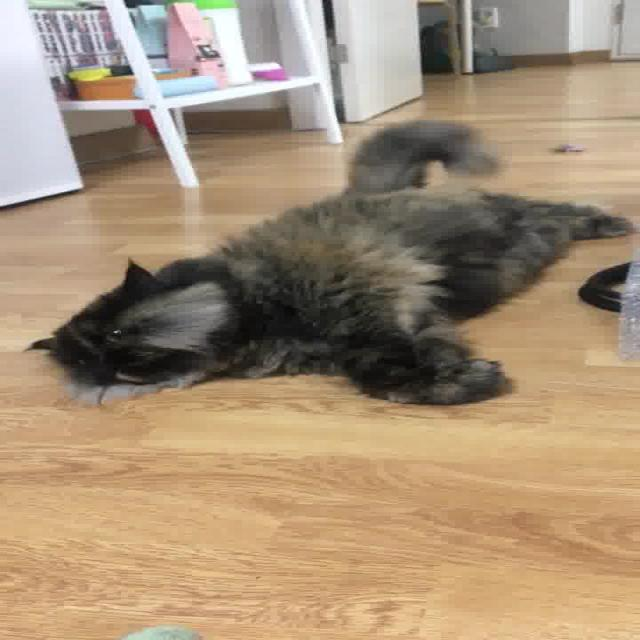cat: (24, 115, 634, 410)
